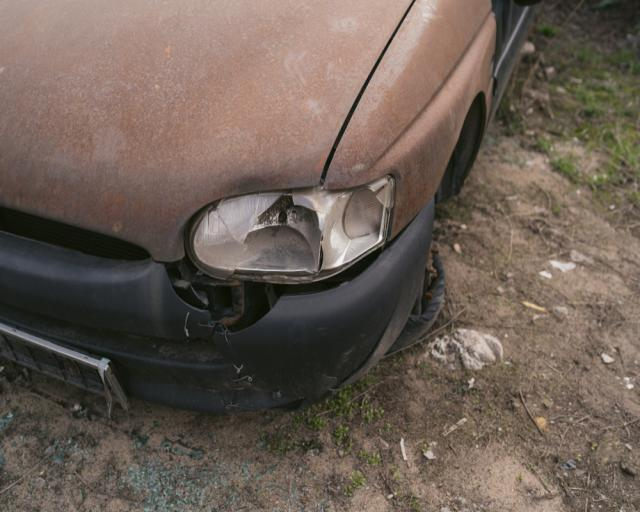lamp broken: (189, 177, 394, 282)
